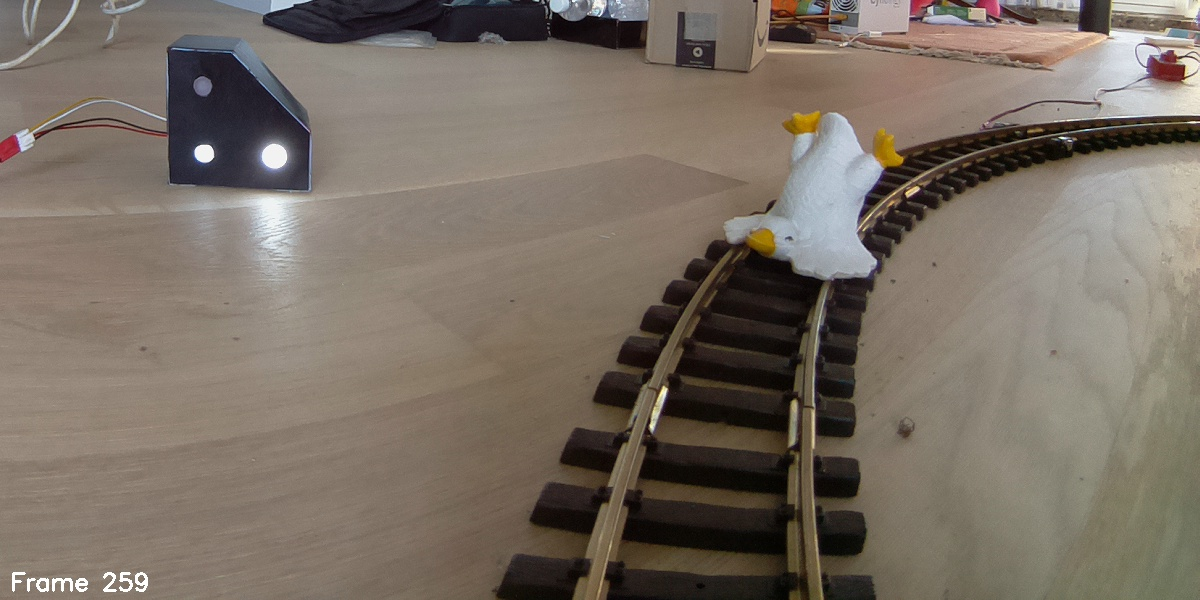Ente: (718, 109, 906, 287)
Halt: (168, 30, 314, 192)
